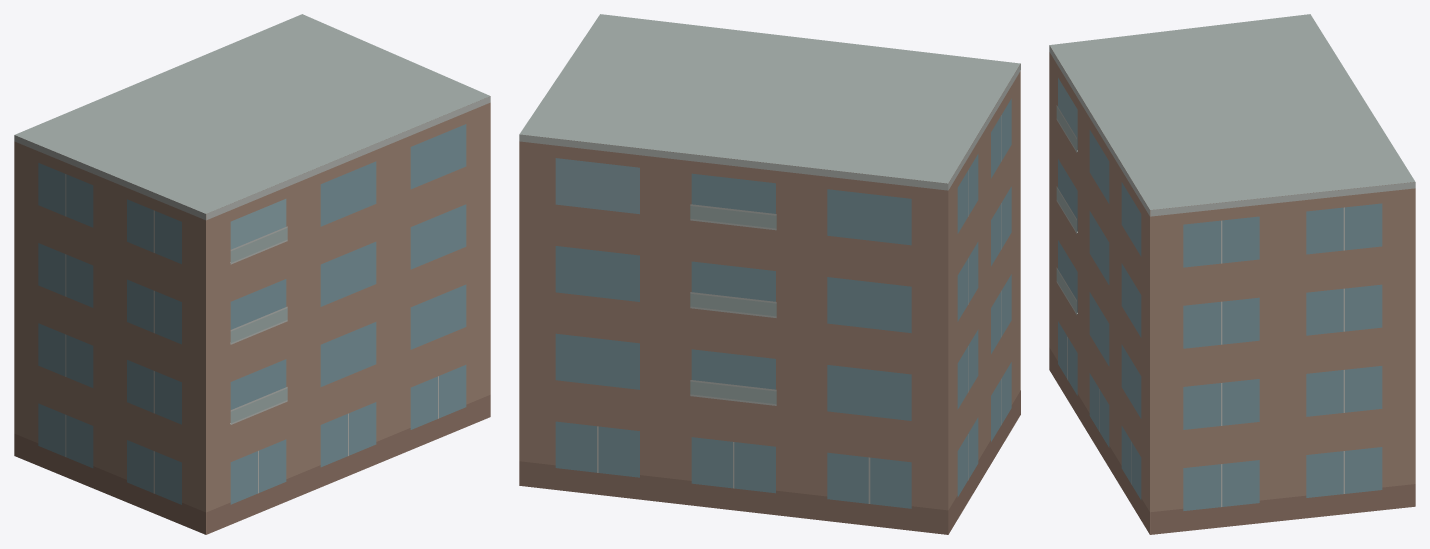
Rendered from survey-upis-32812556.glb.
The picture shows the model from 3 angles, left to right: view 1: azimuth 30°, elevation 25°; view 2: azimuth 150°, elevation 25°; view 3: azimuth 270°, elevation 25°; orthographic projection. The views are drawn at different scales.
Parts seen in each view (by area): view 1: survey-upis-32812556.tmp; view 2: survey-upis-32812556.tmp; view 3: survey-upis-32812556.tmp.
Boxes of the visible parts, x1,y1,x2,y2 form: survey-upis-32812556.tmp: [14, 14, 490, 534]; survey-upis-32812556.tmp: [519, 14, 1020, 534]; survey-upis-32812556.tmp: [1049, 14, 1415, 534].
Size of the model in its own units: 15.81 by 12.2 by 12.48.
